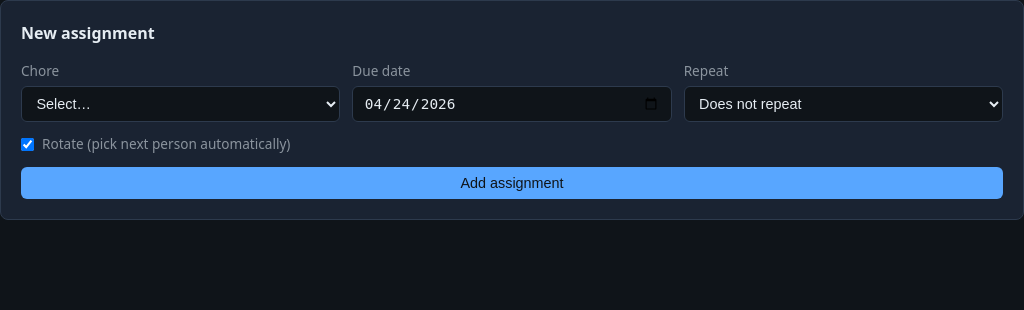
Scenario: AddAssignmentForm — recurrence › shows the interval sub-select when "Every N days" is chosen
Select "Every N days" in the dropdown labelled "Repeat": coordinates (843, 104) [684,86,1003,122]
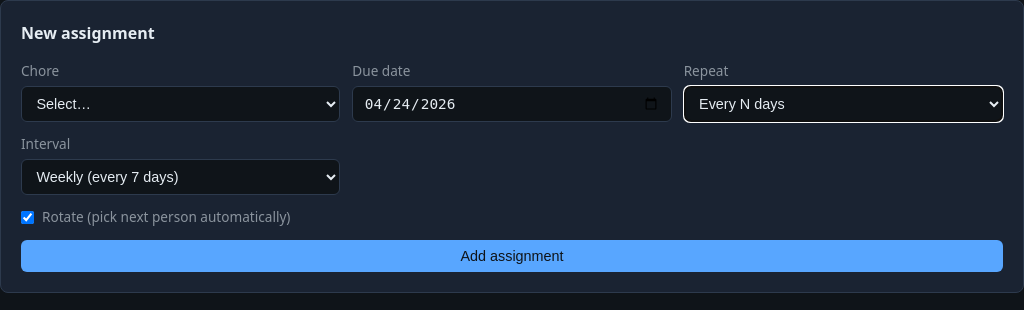
Expected: the dropdown named "Interval in days" is shown, [21,159,340,195]
